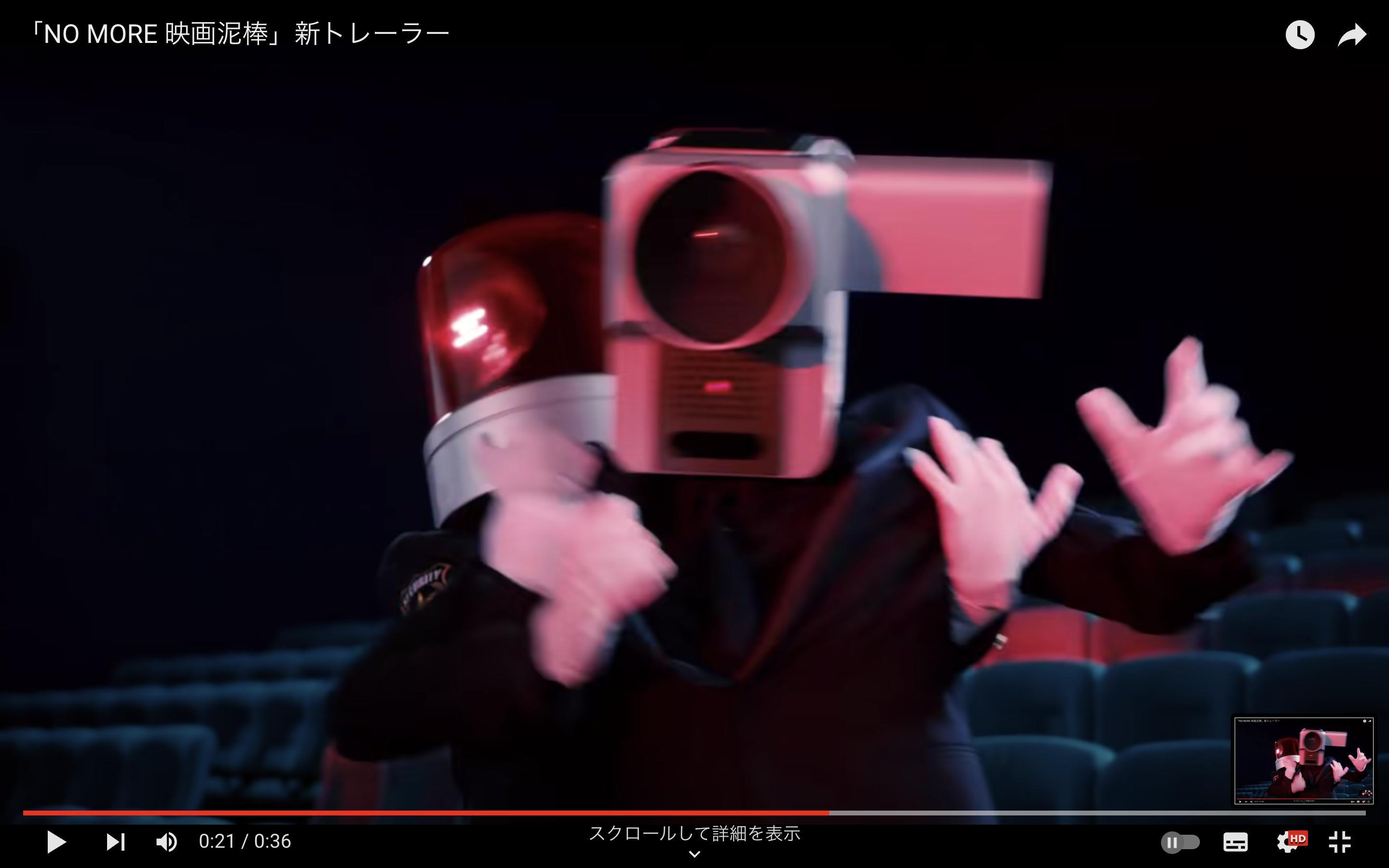no more kid: (603, 121, 1057, 488)
